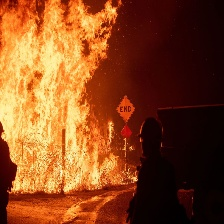fire: (1, 3, 132, 195)
